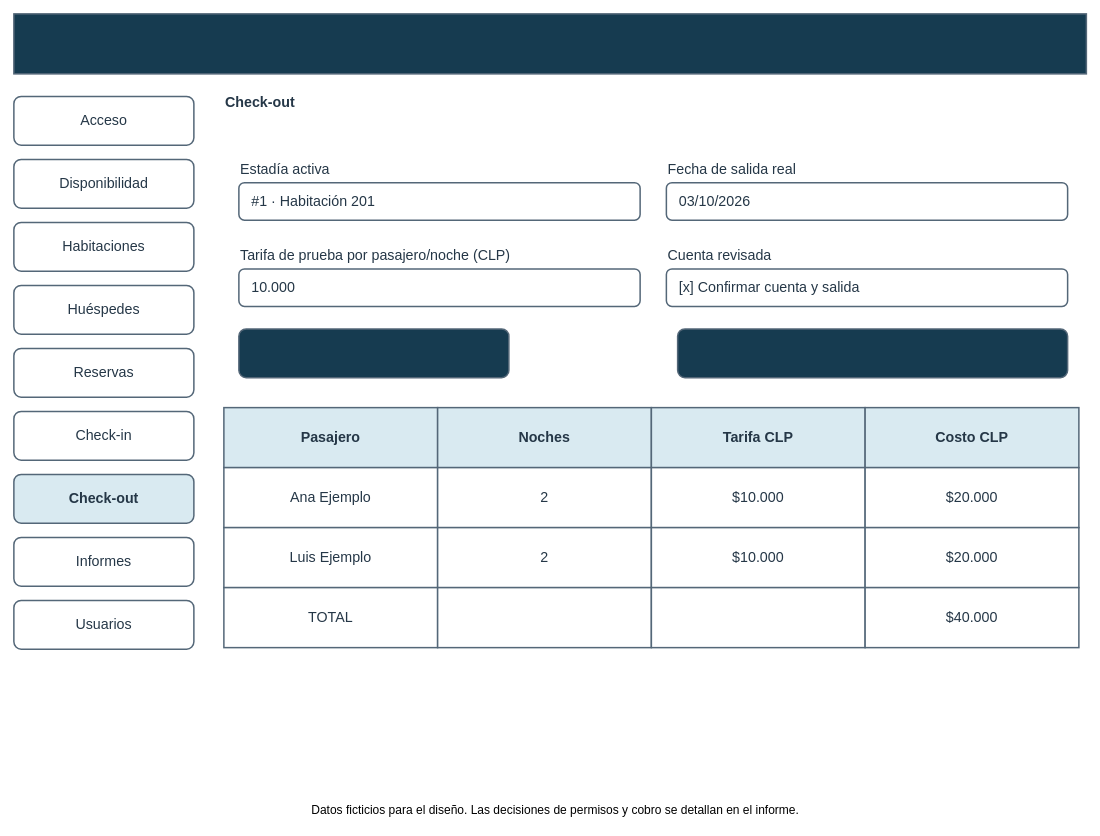
The diagram is 1100 pixels wide and 836 high, and some of its shapes have lost their labels. The centre of each missing label's shape, as x and y in pixels:
Calcular cuenta: [373,353]
Confirmar check-out: [872,353]
Hotel Duerme Bien · Sistema de pasajeros: [550,43]
